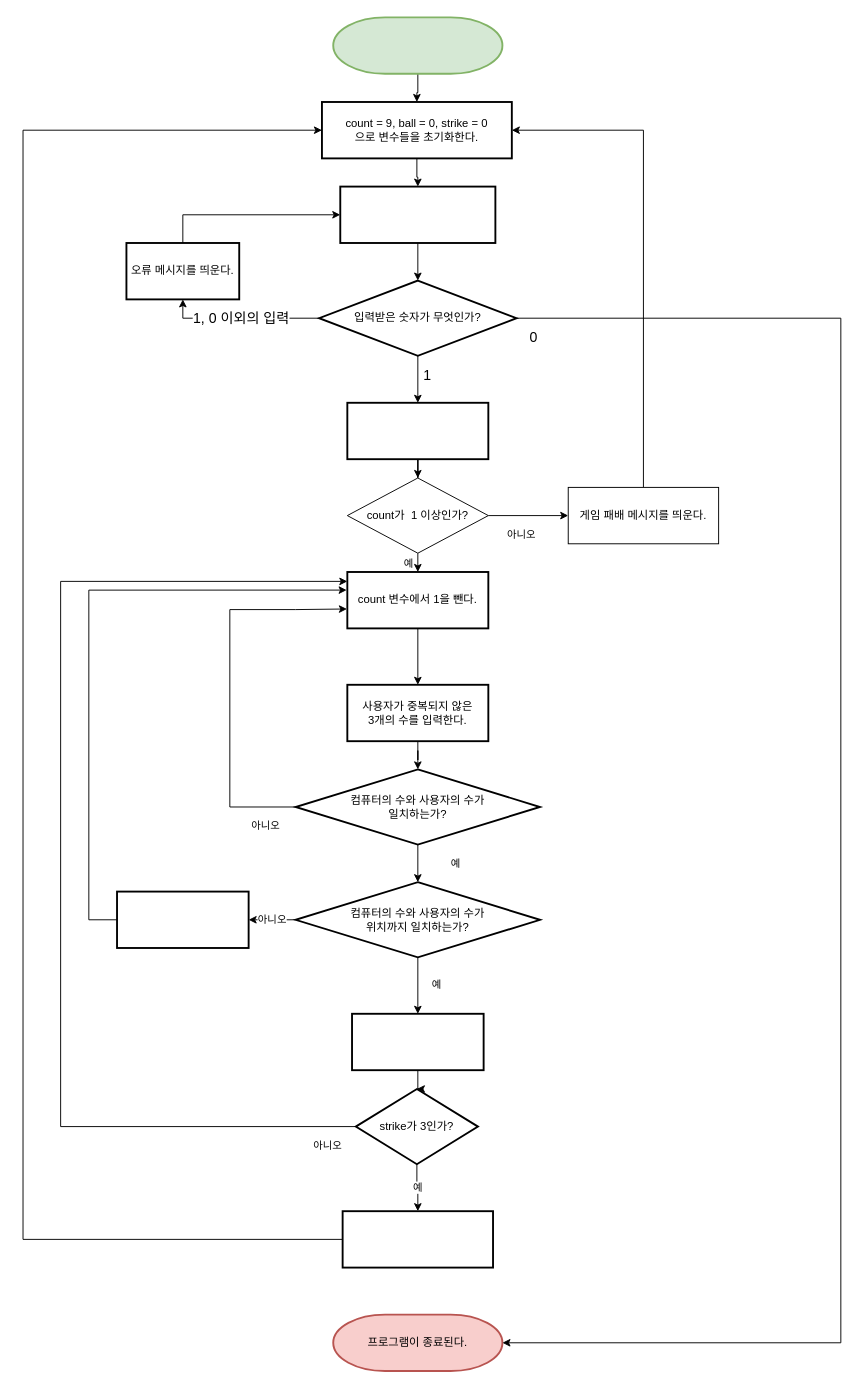
Image size: 865x1387. Some labels were removed from this diagram. Here are the shapes that lost their labels. From the top down, the centre of each, then its label:
pixel 417 45: 프로그램이 시작된다.
pixel 417 214: 게임 시작 메뉴를 입력받는다.
pixel 417 430: 컴퓨터가 임의의 숫자 3개를 생성한다.
pixel 182 919: "볼" 변수에 1을 더한다.
pixel 417 1041: strike 변수에 1을 더한다.
pixel 417 1239: 게임 승리 메시지를 띄운다.
